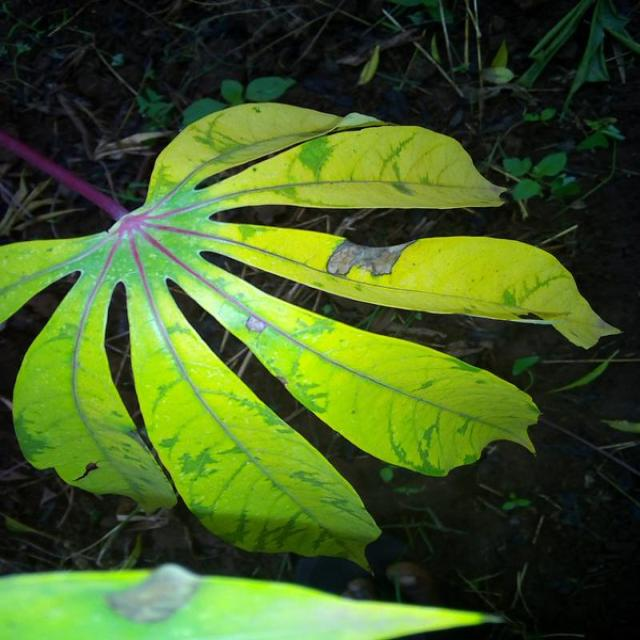cassava leaf: (1, 98, 621, 572), (0, 562, 506, 638)
